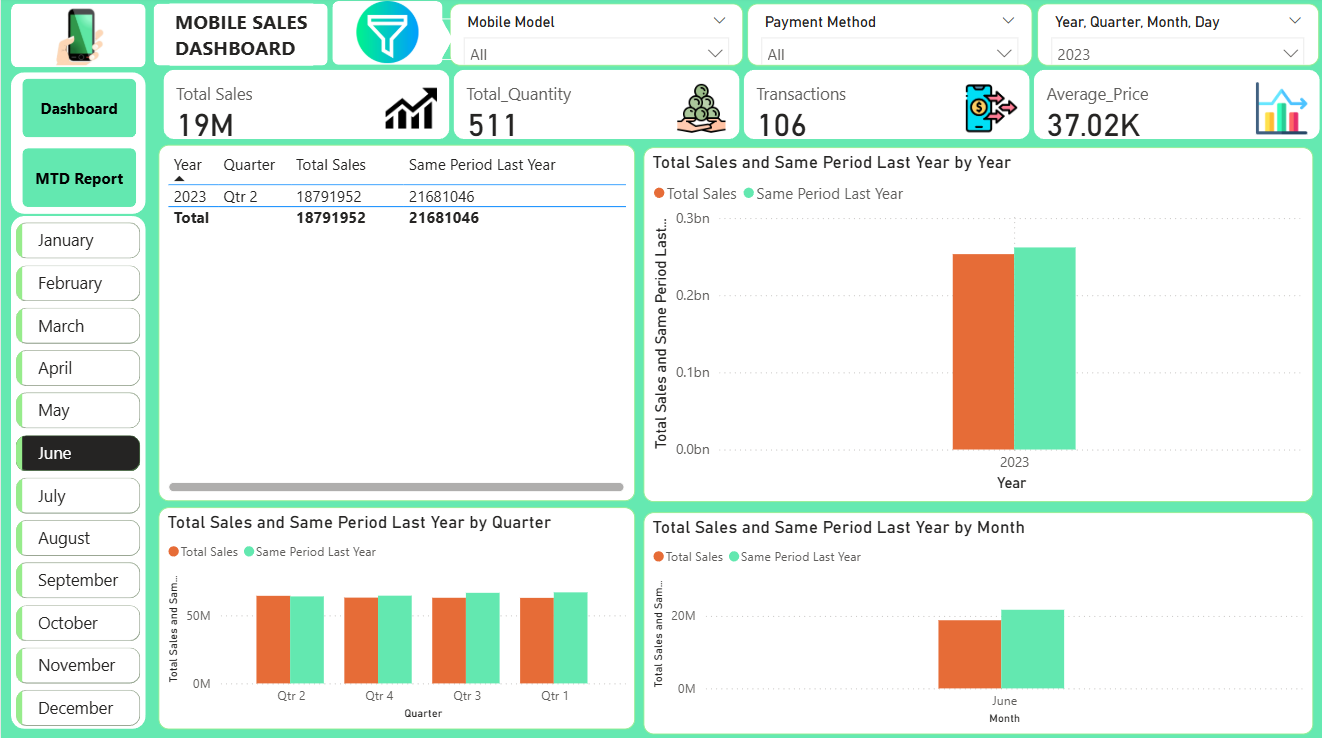

The dashboard page shown, as its layout file describes it:
{"tool":"powerbi","page":{"name":"Same Period Last Year","canvas":[1280,720],"ordinal":2},"visuals":[{"type":"shape","box":[10,6.7,130,61.7],"z":0},{"type":"image","box":[32,6,88,66],"z":1000},{"type":"shape","box":[10,73.3,130,136.7],"z":2000},{"type":"cardVisual","fields":{"Data":["Sales-Data.Total Sales","Sales-Data.Total_Quantity","Sales-Data.Transactions","Sales-Data.Average_Price"]},"box":[151.7,71.7,1128.3,70],"z":3000},{"type":"slicer","fields":{"Values":["Sales-Data.Mobile Model"]},"box":[433.3,6.7,283.3,60],"z":4000},{"type":"slicer","fields":{"Values":["Sales-Data.Payment Method"]},"box":[720,6.7,275,60],"z":5000},{"type":"slicer","fields":{"Values":["Custom_Calender.Date.Variation.Date Hierarchy.Year","Custom_Calender.Date.Variation.Date Hierarchy.Quarter","Custom_Calender.Date.Variation.Date Hierarchy.Month","Custom_Calender.Date.Variation.Date Hierarchy.Day"]},"box":[1000,6.7,271.7,60],"z":6000},{"type":"shape","box":[320,5,106.7,61.7],"z":7000},{"type":"image","box":[331.7,0,81.7,70],"z":8000},{"type":"shape","box":[413.3,21.7,23.3,40],"z":9000},{"type":"shape","box":[146.7,6.7,168.3,60],"z":10000},{"type":"textbox","box":[163.3,6.7,138.3,60],"z":11000},{"type":"shape","box":[10,212.5,130,495],"z":12000},{"type":"advancedSlicerVisual","fields":{"Values":["Custom_Calender.Date.Variation.Date Hierarchy.Month"]},"box":[10,213.3,130,500],"z":13000},{"type":"clusteredColumnChart","fields":{"Category":["Custom_Calender.Date.Variation.Date Hierarchy.Year","Custom_Calender.Date.Variation.Date Hierarchy.Quarter"],"Y":["Sales-Data.Total Sales","Sales-Data.Same Period Last Year"]},"box":[620,146,646,342],"z":14000},{"type":"tableEx","fields":{"Values":["Custom_Calender.Date.Variation.Date Hierarchy.Year","Custom_Calender.Date.Variation.Date Hierarchy.Quarter","Sales-Data.Total Sales","Sales-Data.Same Period Last Year"]},"box":[152,144,460,344],"z":15000},{"type":"clusteredColumnChart","fields":{"Category":["Custom_Calender.Date.Variation.Date Hierarchy.Year","Custom_Calender.Date.Variation.Date Hierarchy.Quarter"],"Y":["Sales-Data.Total Sales","Sales-Data.Same Period Last Year"]},"box":[152,494,460,214],"z":16000},{"type":"clusteredColumnChart","fields":{"Y":["Sales-Data.Total Sales","Sales-Data.Same Period Last Year"],"Category":["Custom_Calender.Date.Variation.Date Hierarchy.Year","Custom_Calender.Date.Variation.Date Hierarchy.Quarter","Custom_Calender.Date.Variation.Date Hierarchy.Month","Custom_Calender.Date.Variation.Date Hierarchy.Day"]},"box":[620,498,646,214],"z":17000},{"type":"pageNavigator","box":[20,80,110,124],"z":18000}]}

Visuals, with their boxes in screenshot pixels (x1, y1, x2, y2), scaled from the page's 1280x720 canvas onto the 1322x738 screenshot:
shape: <region>10, 7, 145, 70</region>
image: <region>33, 6, 124, 74</region>
shape: <region>10, 75, 145, 215</region>
cardVisual - Sales-Data.Total Sales x Sales-Data.Total_Quantity: <region>157, 73, 1321, 145</region>
slicer - Sales-Data.Mobile Model: <region>448, 7, 740, 68</region>
slicer - Sales-Data.Payment Method: <region>744, 7, 1028, 68</region>
slicer - Custom_Calender.Date.Variation.Date Hierarchy.Year x Custom_Calender.Date.Variation.Date Hierarchy.Quarter: <region>1033, 7, 1313, 68</region>
shape: <region>330, 5, 441, 68</region>
image: <region>343, 0, 427, 72</region>
shape: <region>427, 22, 451, 63</region>
shape: <region>152, 7, 325, 68</region>
textbox: <region>169, 7, 311, 68</region>
shape: <region>10, 218, 145, 725</region>
advancedSlicerVisual - Custom_Calender.Date.Variation.Date Hierarchy.Month: <region>10, 219, 145, 731</region>
clusteredColumnChart - Custom_Calender.Date.Variation.Date Hierarchy.Year x Custom_Calender.Date.Variation.Date Hierarchy.Quarter: <region>640, 150, 1308, 500</region>
tableEx - Custom_Calender.Date.Variation.Date Hierarchy.Year x Custom_Calender.Date.Variation.Date Hierarchy.Quarter: <region>157, 148, 632, 500</region>
clusteredColumnChart - Custom_Calender.Date.Variation.Date Hierarchy.Year x Custom_Calender.Date.Variation.Date Hierarchy.Quarter: <region>157, 506, 632, 726</region>
clusteredColumnChart - Sales-Data.Total Sales x Sales-Data.Same Period Last Year: <region>640, 510, 1308, 730</region>
pageNavigator: <region>21, 82, 134, 209</region>
